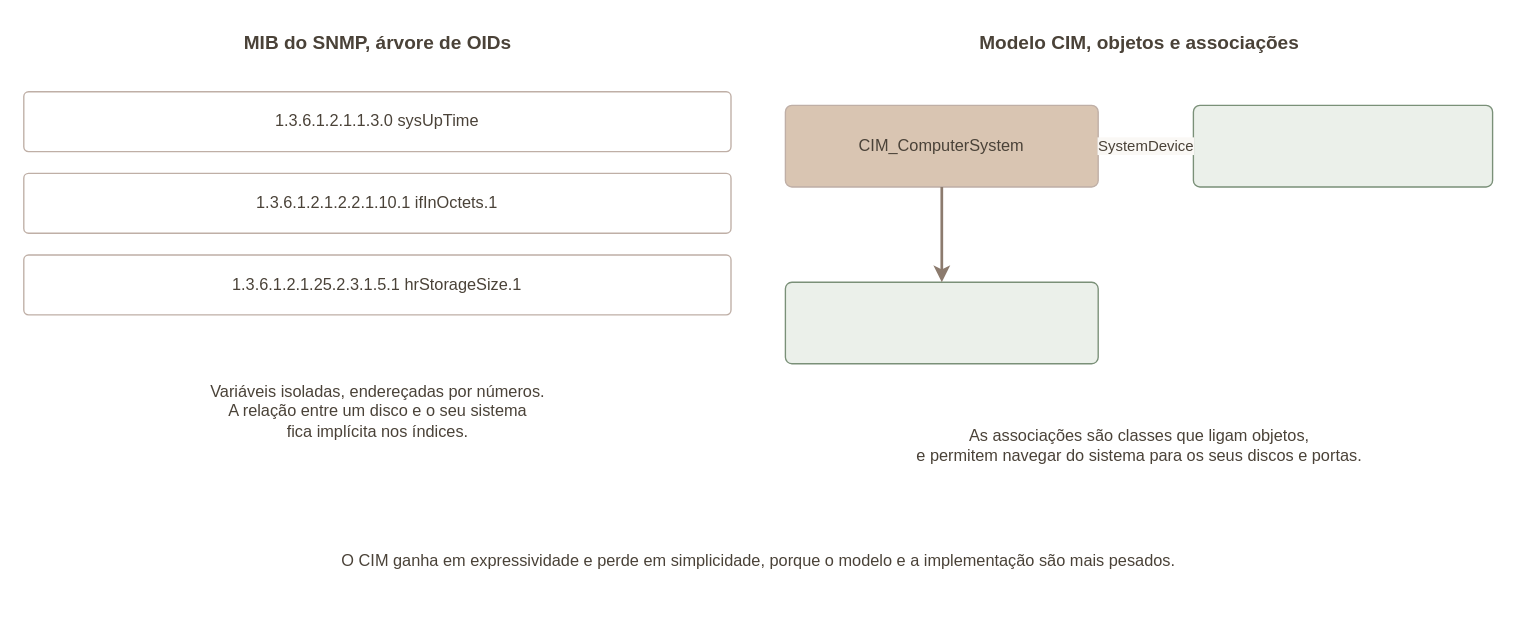
This 1516x617 diagram has some shape labels left out. The box of each missing label's shape, as (x1, y1, x2, y2) in pixels:
CIM_LogicalDisk: (1192, 104, 1493, 187)
CIM_NetworkPort: (784, 281, 1098, 364)
